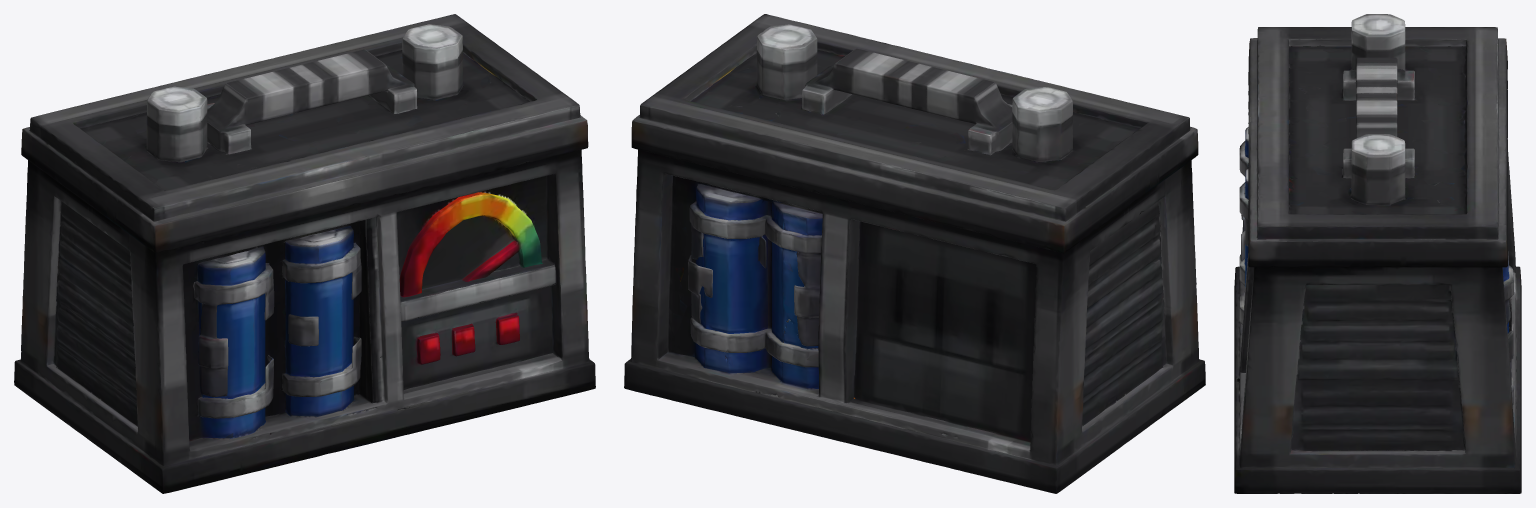
Rendered from CELPA0_2026-08-09T163826.095.glb.
The picture shows the model from 3 angles, left to right: view 1: azimuth 30°, elevation 25°; view 2: azimuth 150°, elevation 25°; view 3: azimuth 270°, elevation 25°; orthographic projection. The views are drawn at different scales.
Visible parts, largest first — view 1: world; view 2: world; view 3: world.
Boxes of the visible parts, x1,y1,x2,y2 form: world: (14, 14, 595, 493); world: (624, 14, 1205, 493); world: (1234, 14, 1521, 493).
Size of the model in its own units: 1 by 0.7074 by 0.5994.
Materials: 1 (1 with a texture image).
